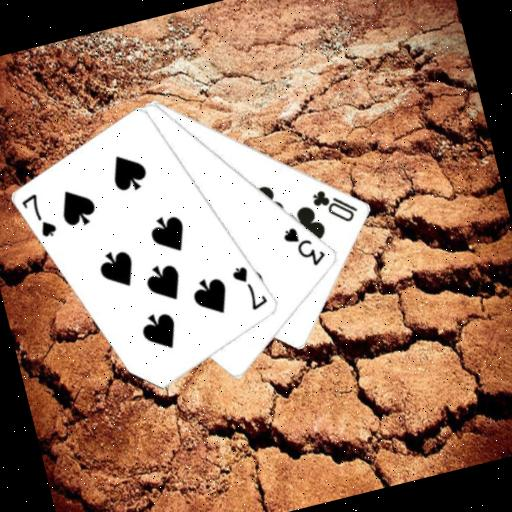10C: (307, 179, 362, 231)
3S: (279, 218, 330, 274)
7S: (228, 259, 272, 316), (17, 187, 60, 244)
